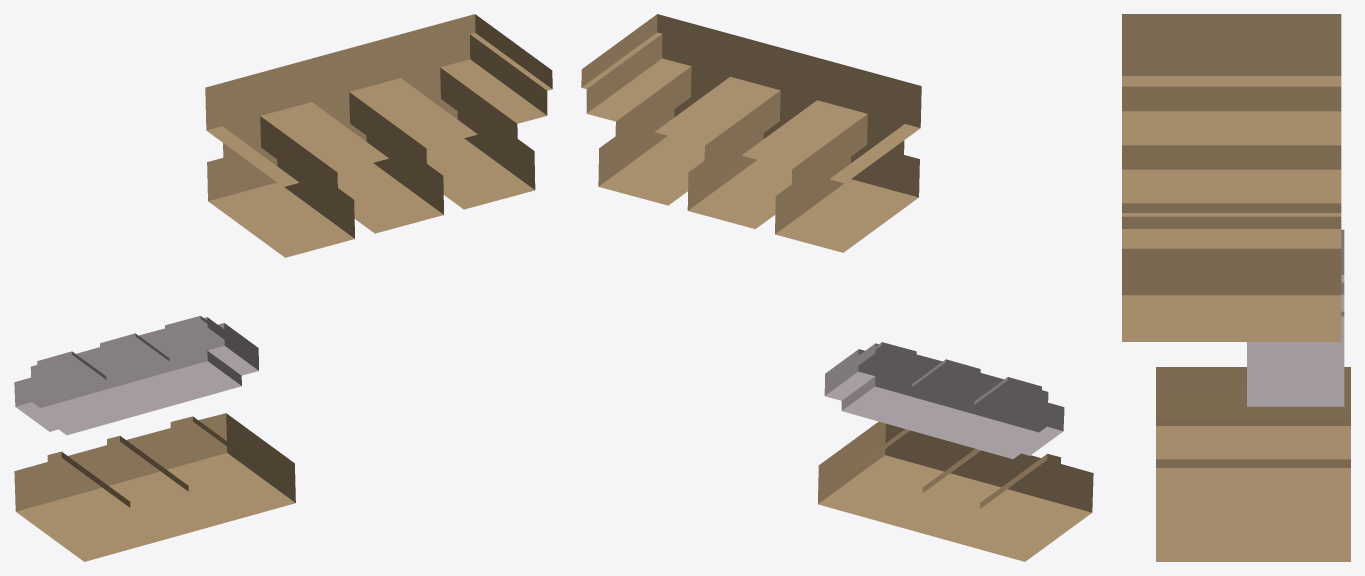
3 renders of one model, left to right at view 1: azimuth 30°, elevation 25°; view 2: azimuth 150°, elevation 25°; view 3: azimuth 270°, elevation 25°, orthographic. The views are drawn at different scales.
Visible parts, largest first — view 1: 0_3_0_1_2_2; view 2: 0_3_0_1_2_2; view 3: 0_3_0_1_2_2.
Boxes of the visible parts, x1,y1,x2,y2 form: 0_3_0_1_2_2: (14,14,552,561); 0_3_0_1_2_2: (581,14,1093,561); 0_3_0_1_2_2: (1122,14,1350,561).
Bounding box in the file's own units: 92.8 × 75 × 28.2.
